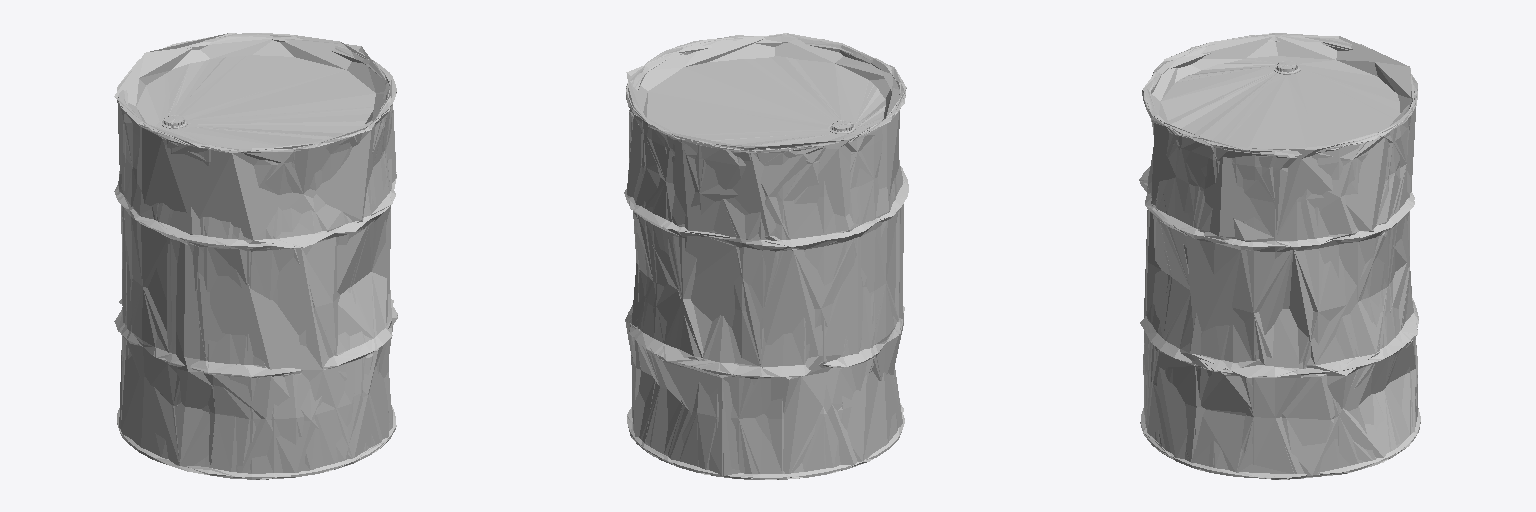
File: barrel.obj
The picture shows the model from 3 angles: view 1: azimuth 30°, elevation 25°; view 2: azimuth 150°, elevation 25°; view 3: azimuth 270°, elevation 25°; orthographic projection.
Visible parts, largest first — view 1: Barrel_LOD3, Barrel_LOD0, Barrel_LOD2, Barrel_LOD1; view 2: Barrel_LOD3, Barrel_LOD0, Barrel_LOD2, Barrel_LOD1; view 3: Barrel_LOD3, Barrel_LOD2, Barrel_LOD0, Barrel_LOD1.
Boxes of the visible parts, x1=… form: Barrel_LOD3: x1=114, y1=33, x2=396, y2=465; Barrel_LOD0: x1=114, y1=33, x2=397, y2=479; Barrel_LOD2: x1=118, y1=33, x2=393, y2=472; Barrel_LOD1: x1=115, y1=33, x2=397, y2=479; Barrel_LOD3: x1=625, y1=36, x2=904, y2=478; Barrel_LOD0: x1=624, y1=34, x2=908, y2=479; Barrel_LOD2: x1=627, y1=33, x2=906, y2=475; Barrel_LOD1: x1=624, y1=35, x2=908, y2=479; Barrel_LOD3: x1=1144, y1=36, x2=1418, y2=475; Barrel_LOD2: x1=1141, y1=33, x2=1417, y2=474; Barrel_LOD0: x1=1140, y1=35, x2=1420, y2=479; Barrel_LOD1: x1=1139, y1=34, x2=1420, y2=479.
Size of the model in its own units: 78.52 by 101 by 77.63.